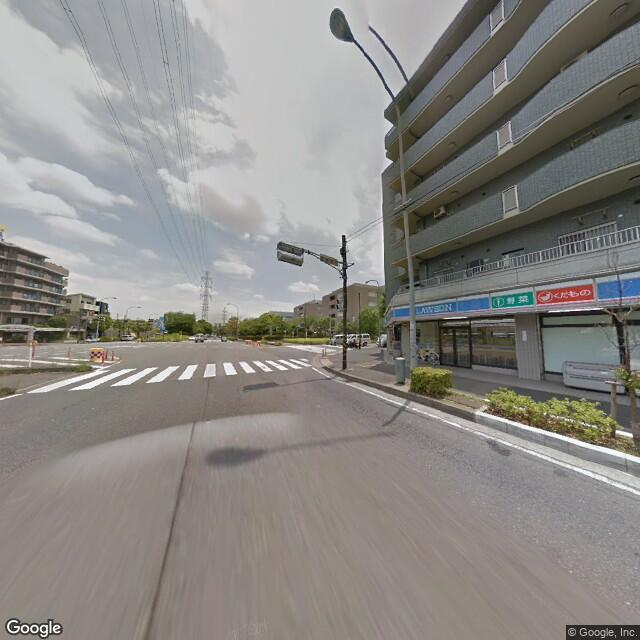lawson: (387, 268, 639, 324)
